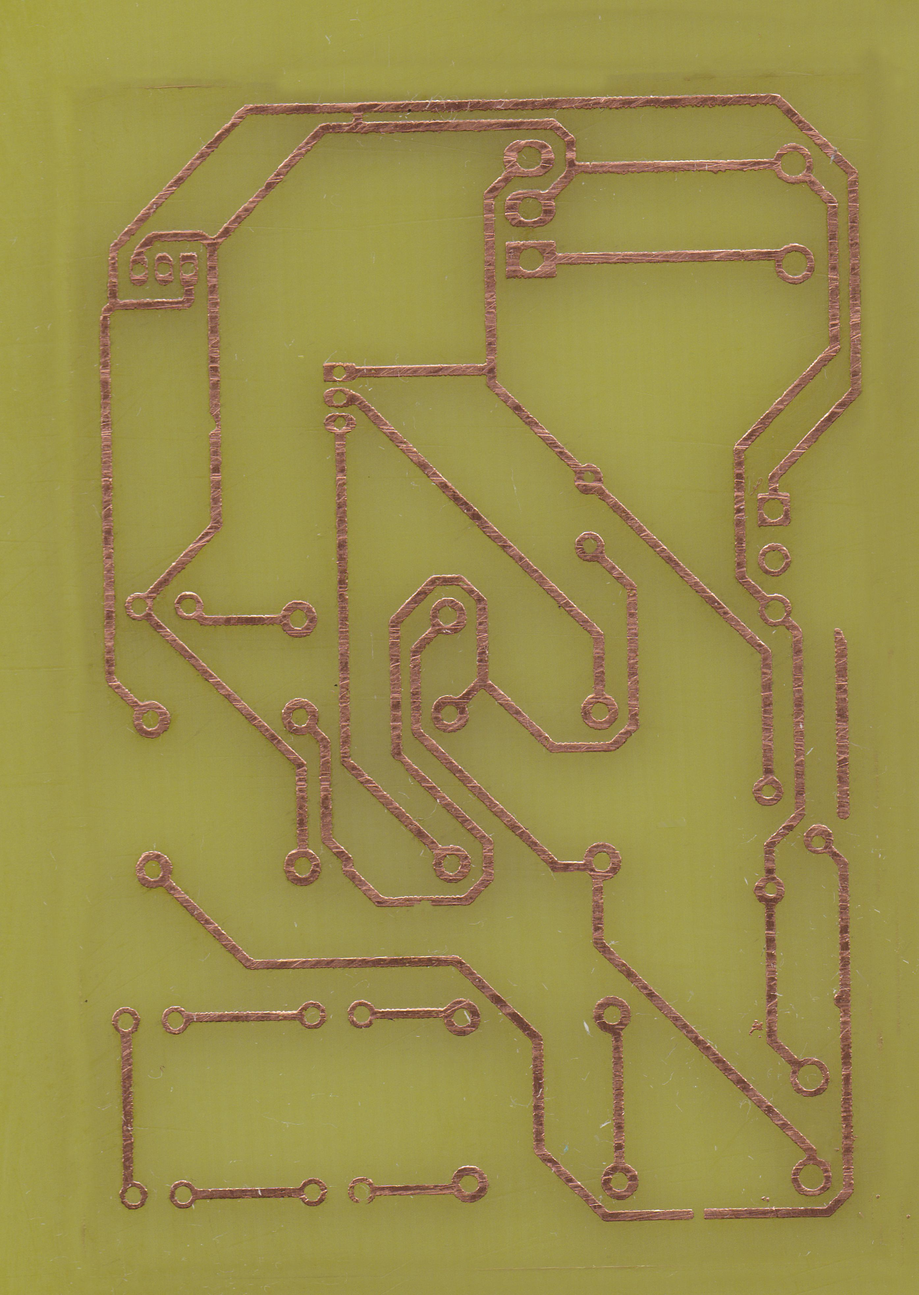missing_hole: (349, 1174, 380, 1211)
mouse_bite: (408, 891, 440, 913)
open_circuit: (683, 1202, 713, 1227)
short: (347, 99, 369, 140)
spur: (830, 983, 856, 1015)
spurious_copper: (825, 619, 858, 827)
